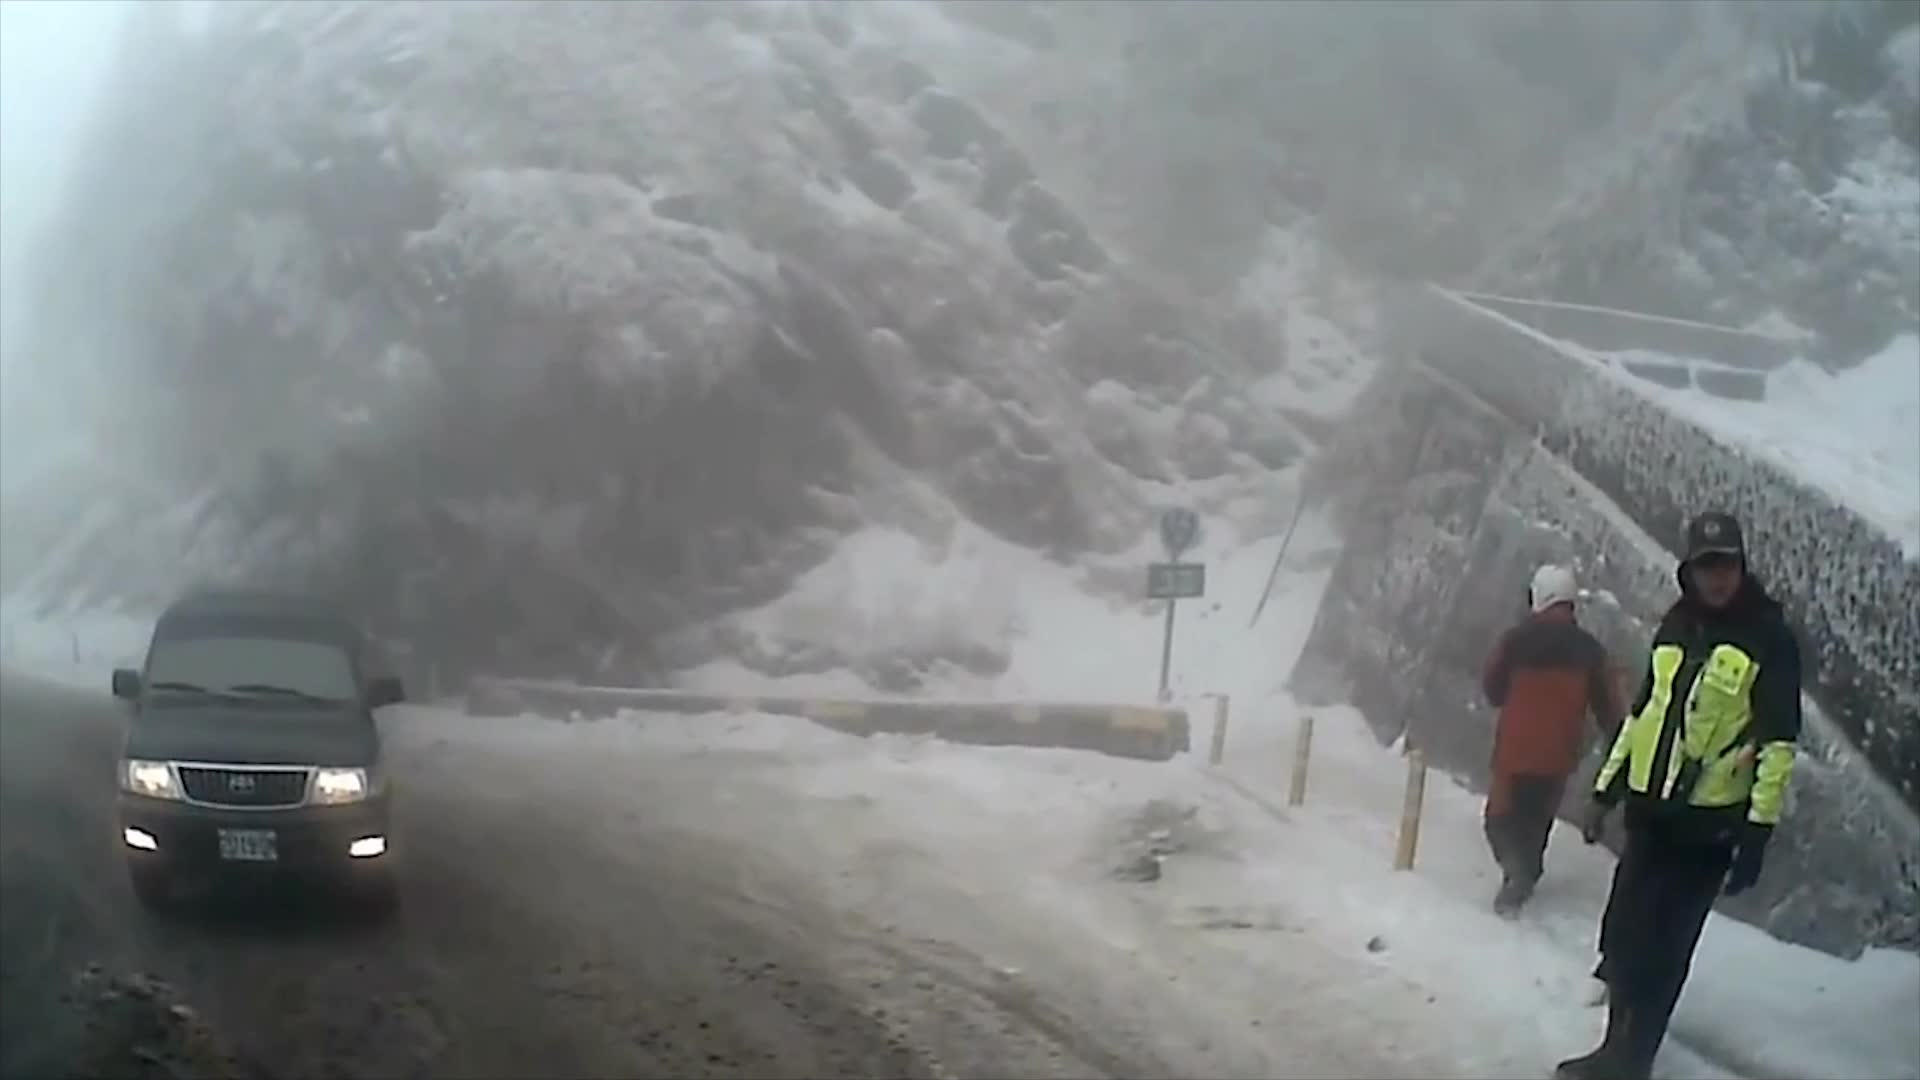pedestrian: (1555, 508, 1804, 1078), (1488, 559, 1625, 917)
vehicle: (109, 586, 404, 916)
